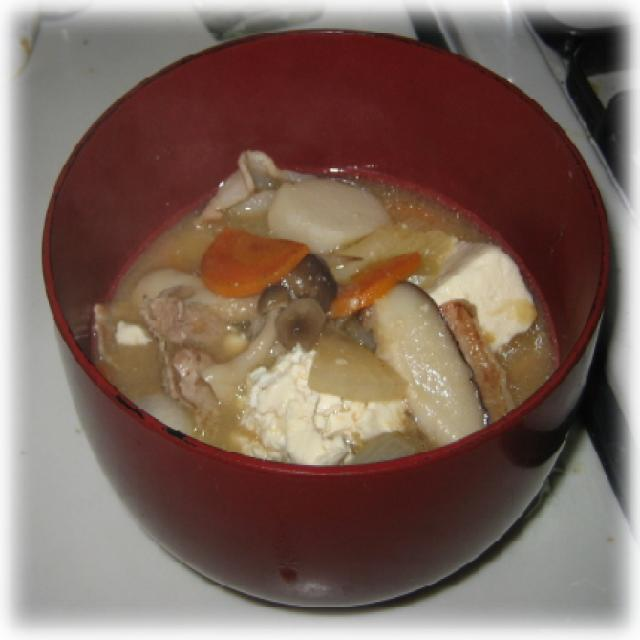蔬菜料理: (55, 25, 619, 597)
